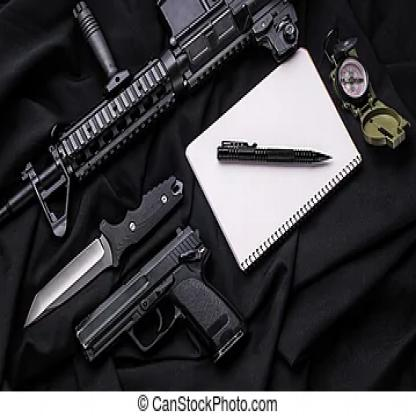Gun: (0, 0, 300, 239)
Knife: (24, 175, 218, 329)
Pistol: (73, 224, 250, 370)
